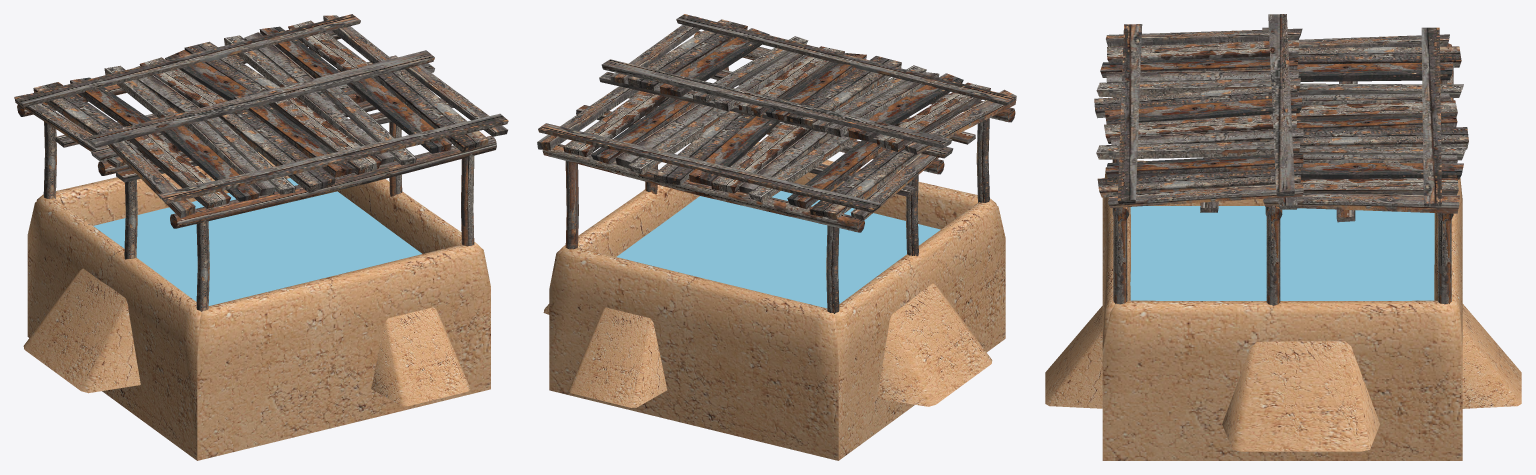
Rendered from WaterWell_v1_M2.gltf.
3 renders of one model, left to right at view 1: azimuth 30°, elevation 25°; view 2: azimuth 150°, elevation 25°; view 3: azimuth 270°, elevation 25°, orthographic. The views are drawn at different scales.
Visible parts, largest first — view 1: Roof_W3_v1 (18), Fence_W3_v3 (1), Fence_W3_v3, Water, Roof_W3_v1 (16), Wall_Support_T3_v2 (2), Wall_Support_T3_v2, Fence_W3_v5 (2), Roof_W3_v1 (17), Roof_W3_v1 (19), Fence_W3_v5 (1), Fence_W3_v5; view 2: Roof_W3_v1 (19), Fence_W3_v3 (1), Fence_W3_v3, Water, Roof_W3_v1 (16), Wall_Support_T3_v2 (2), Wall_Support_T3_v2 (1), Fence_W3_v5, Roof_W3_v1 (17), Roof_W3_v1 (18), Fence_W3_v5 (2), Fence_W3_v5 (1); view 3: Roof_W3_v1 (17), Fence_W3_v3 (1), Fence_W3_v3, Water, Wall_Support_T3_v2 (3), Wall_Support_T3_v2 (1), Wall_Support_T3_v2, Roof_W3_v1 (18), Roof_W3_v1 (19), Fence_W3_v5 (2), Fence_W3_v5 (1), Fence_W3_v5.
Part boxes in pixels (x1,y1,x2,y2): Roof_W3_v1 (18): (197,244,490,460); Fence_W3_v3 (1): (86,50,508,218); Fence_W3_v3: (14,14,434,167); Water: (93,178,421,305); Roof_W3_v1 (16): (27,196,201,460); Wall_Support_T3_v2 (2): (23,268,140,393); Wall_Support_T3_v2: (371,307,470,406); Fence_W3_v5 (2): (170,136,496,311); Roof_W3_v1 (17): (331,175,490,284); Roof_W3_v1 (19): (36,152,289,225); Fence_W3_v5 (1): (98,96,402,259); Fence_W3_v5: (17,31,340,198); Roof_W3_v1 (19): (549,247,838,460); Fence_W3_v3 (1): (601,14,1016,154); Fence_W3_v3: (537,72,953,220); Water: (617,191,940,308); Roof_W3_v1 (16): (834,200,1005,460); Wall_Support_T3_v2 (2): (877,283,992,406); Wall_Support_T3_v2 (1): (568,307,667,407); Fence_W3_v5: (542,144,864,313); Roof_W3_v1 (17): (549,185,699,286); Roof_W3_v1 (18): (753,142,996,229); Fence_W3_v5 (2): (694,31,1015,202); Fence_W3_v5 (1): (628,91,944,256); Roof_W3_v1 (17): (1102,300,1462,460); Fence_W3_v3 (1): (1094,14,1303,212); Fence_W3_v3: (1262,27,1468,222); Water: (1130,206,1434,300); Wall_Support_T3_v2 (3): (1222,341,1379,451); Wall_Support_T3_v2 (1): (1462,304,1521,408); Wall_Support_T3_v2: (1045,306,1102,408); Roof_W3_v1 (18): (1102,162,1130,350); Roof_W3_v1 (19): (1434,178,1462,350); Fence_W3_v5 (2): (1112,96,1129,304); Fence_W3_v5 (1): (1265,205,1282,305); Fence_W3_v5: (1437,43,1453,304).
Size of the model in its own units: 4.06 by 2.6 by 3.97.
2 materials, 1 textured.
